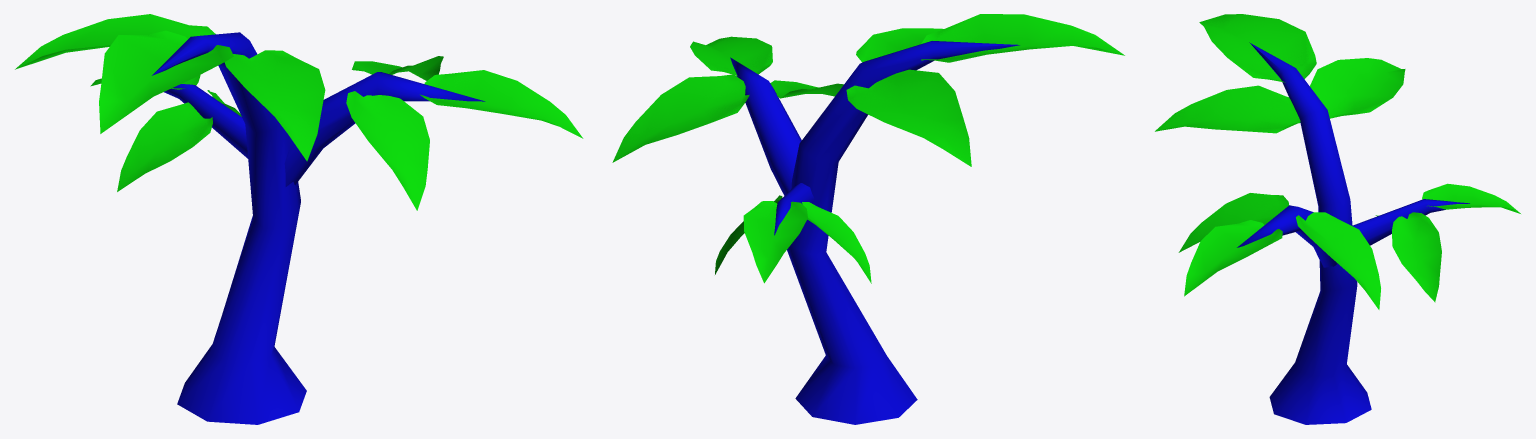
Rendered from Pepper_2.fbx.
3 views of the same model, side by side, from view 1: azimuth 30°, elevation 25°; view 2: azimuth 150°, elevation 25°; view 3: azimuth 270°, elevation 25° (orthographic). The views are drawn at different scales.
Visible parts, largest first — view 1: BSTC_Pepper_2; view 2: BSTC_Pepper_2; view 3: BSTC_Pepper_2.
Boxes of the visible parts, <box> form: BSTC_Pepper_2: <box>15,14,583,424</box>; BSTC_Pepper_2: <box>612,14,1124,424</box>; BSTC_Pepper_2: <box>1155,14,1520,424</box>.
Size of the model in its own units: 44.42 by 36.1 by 37.49.
